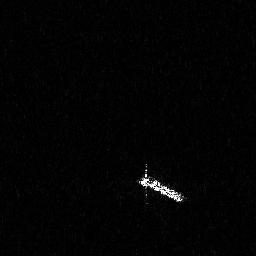ship: (136, 161, 187, 206)
